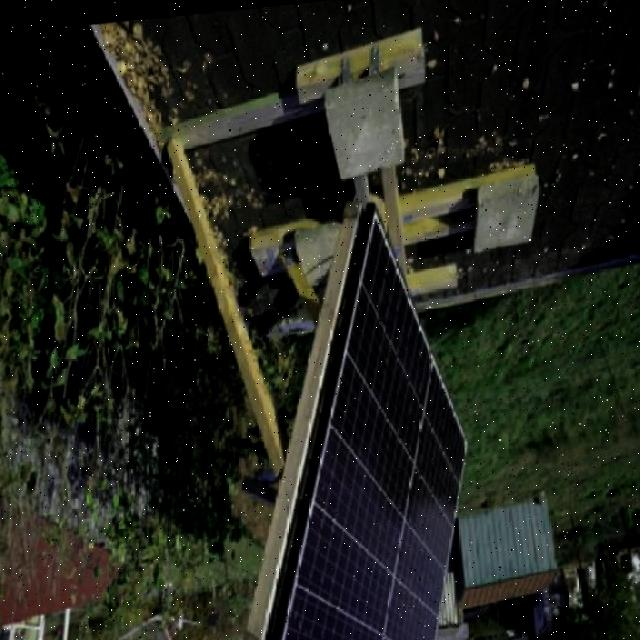Normal Solar Panel: (251, 203, 485, 640)
